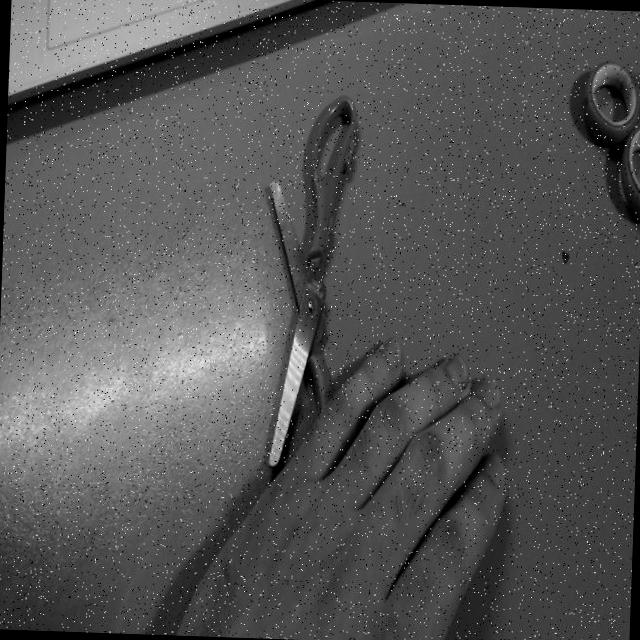scissors: (250, 82, 372, 547)
